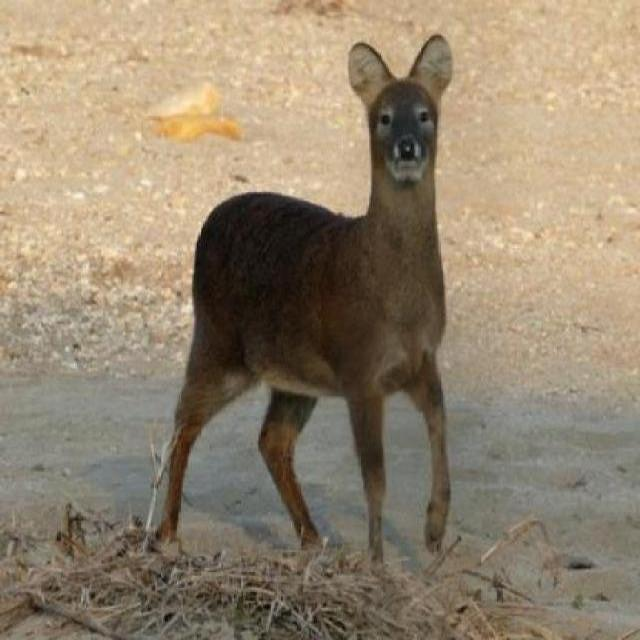deer: (148, 28, 462, 568)
